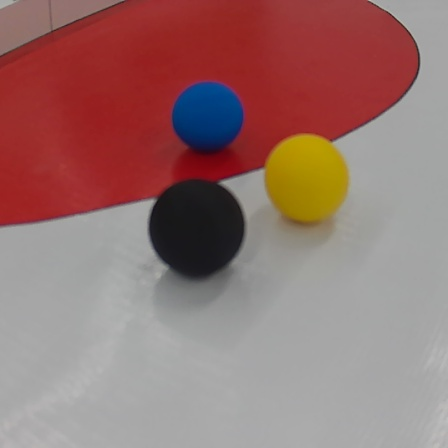black: (148, 182, 247, 280)
blue: (171, 81, 246, 153)
red_base: (0, 0, 428, 224)
yellow: (265, 132, 351, 226)
